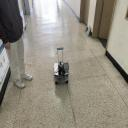cart: (54, 63, 69, 85)
